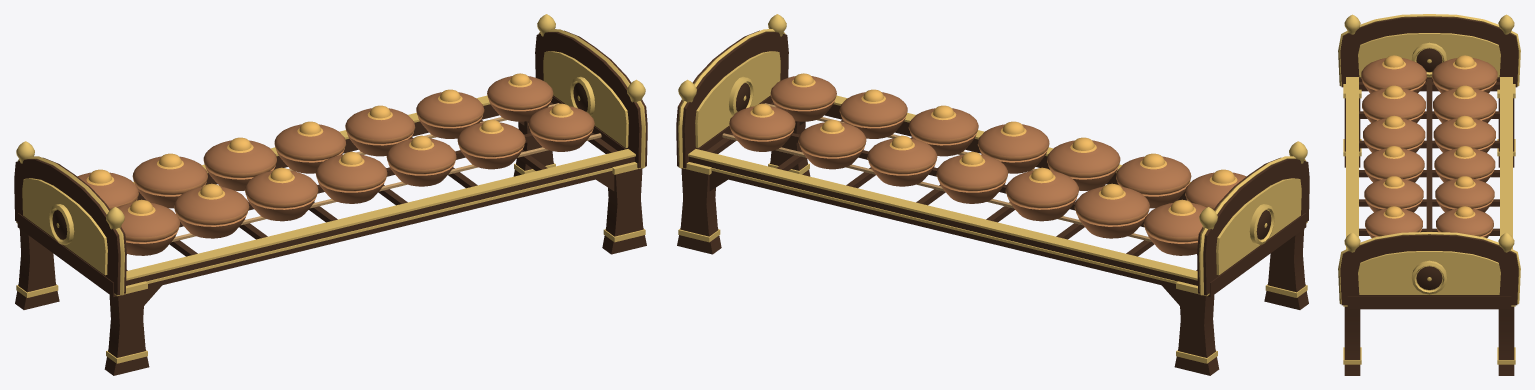
Rendered from BonangPenerusSet.fbx.
3 views of the same model, side by side, from view 1: azimuth 30°, elevation 25°; view 2: azimuth 150°, elevation 25°; view 3: azimuth 270°, elevation 25° (orthographic). The views are drawn at different scales.
Parts seen in each view (by area): view 1: BonangPenerusSet_Mesh; view 2: BonangPenerusSet_Mesh; view 3: BonangPenerusSet_Mesh.
Part boxes in pixels (x1,y1,x2,y2): BonangPenerusSet_Mesh: [14, 14, 647, 375]; BonangPenerusSet_Mesh: [676, 14, 1309, 375]; BonangPenerusSet_Mesh: [1338, 14, 1520, 375].
Bounding box in the file's own units: 1.41 × 0.4055 × 0.475.
